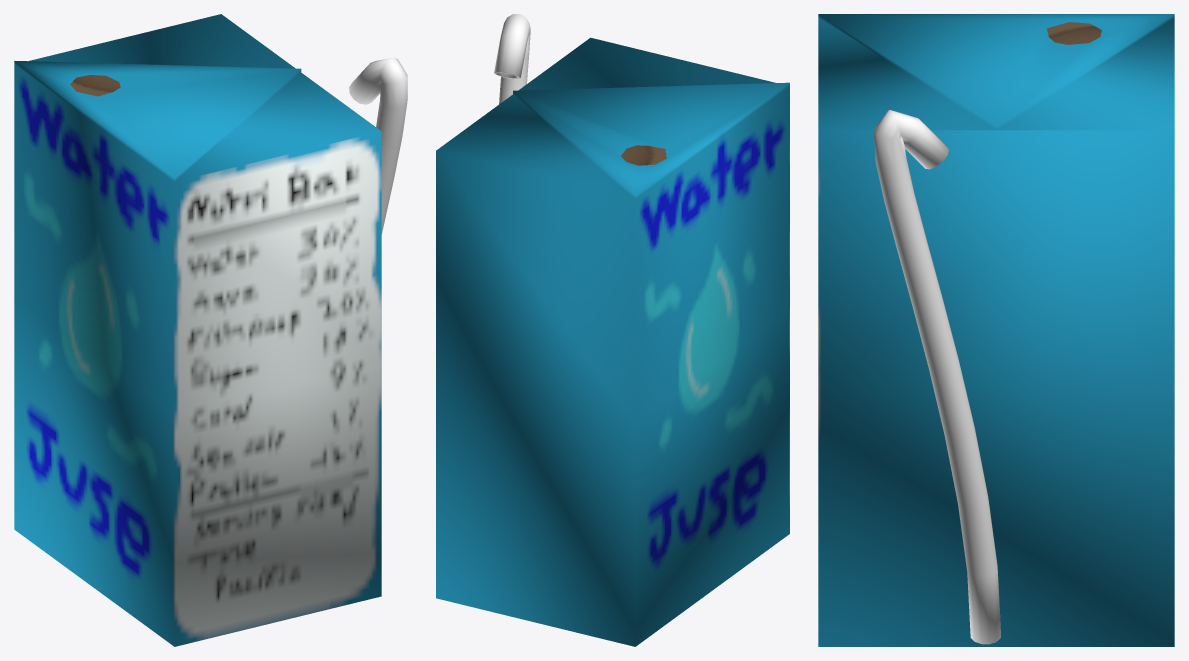
The model's file is item-water-juse.glb.
3 views of the same model, side by side, from view 1: azimuth 30°, elevation 25°; view 2: azimuth 150°, elevation 25°; view 3: azimuth 270°, elevation 25° (orthographic). The views are drawn at different scales.
Size of the model in its own units: 0.0768 by 0.14 by 0.0808.
3 materials, 2 textured.
